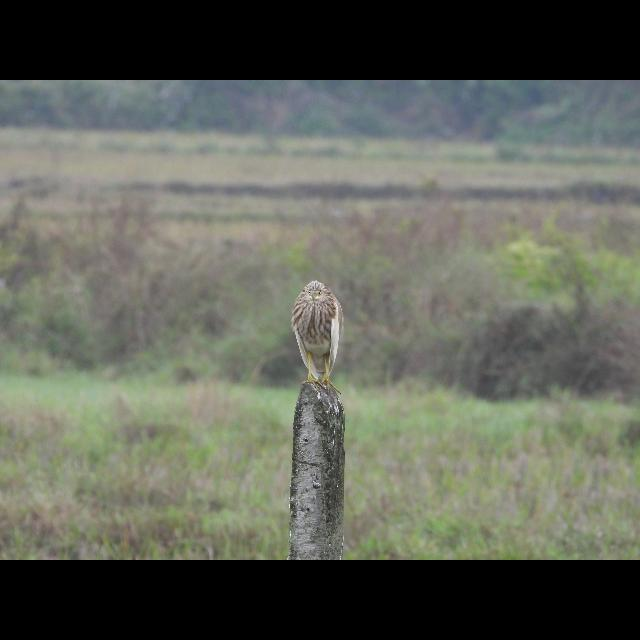heron: (291, 281, 341, 385)
